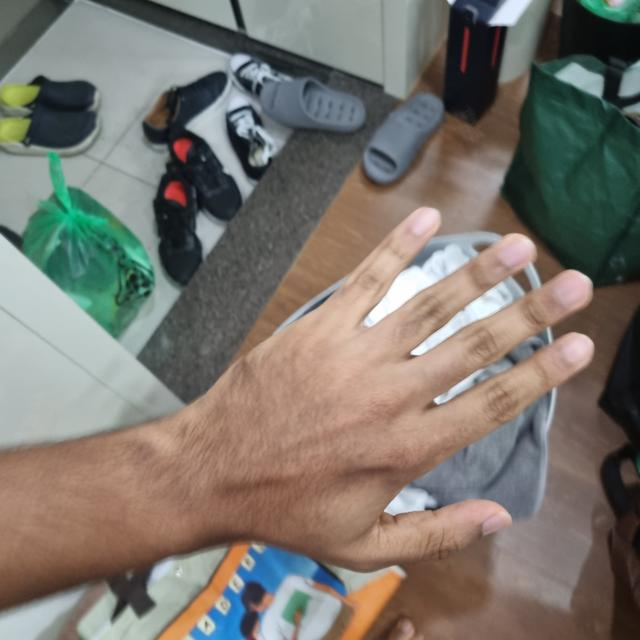Paper: (176, 217, 585, 569)
